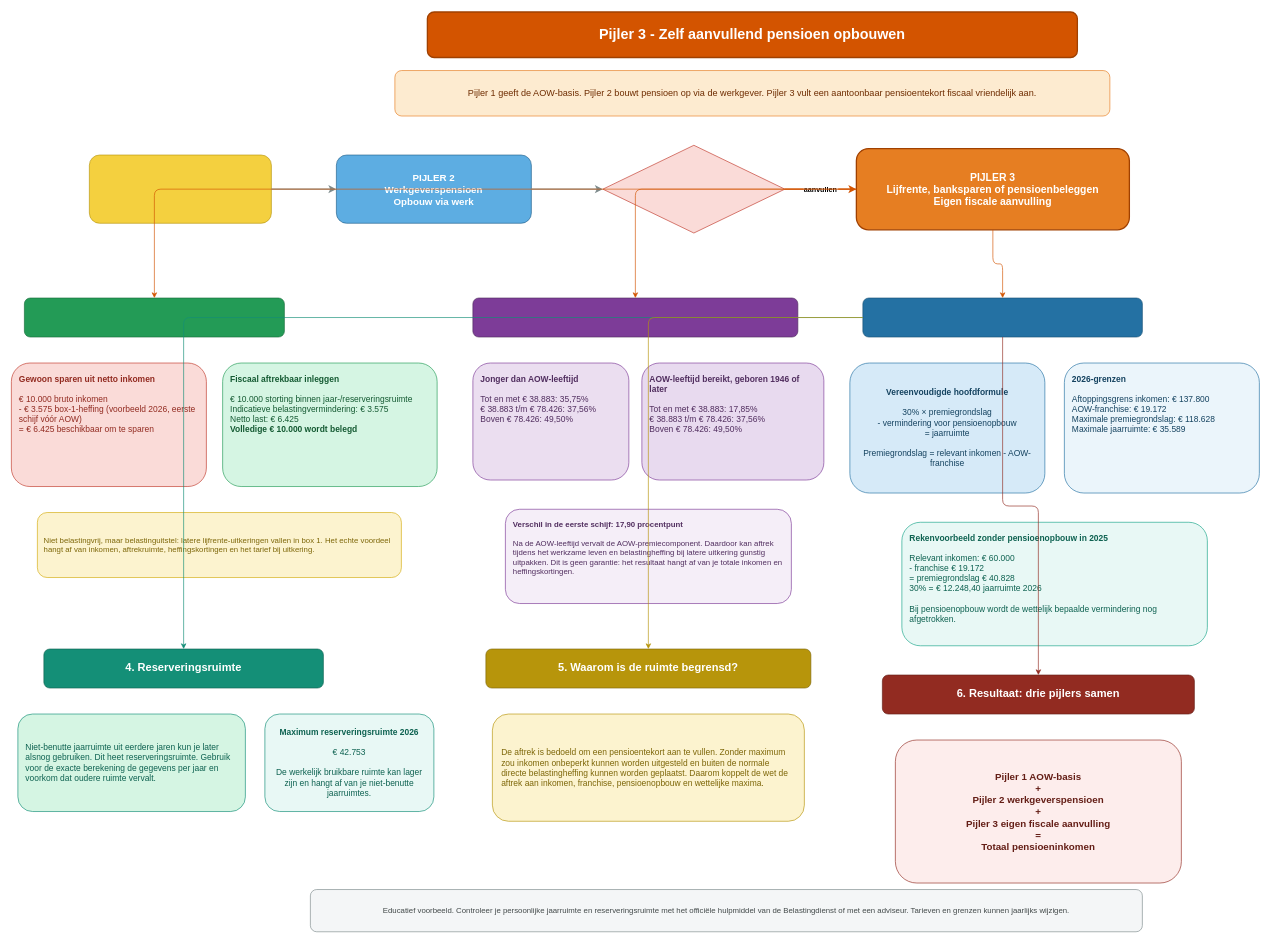
Image size: 1271x943. Some labels were removed from this diagram. Each missing label, with the centre of its shape:
"1. Inleggen met bruto geld" goes at (154,317).
"2. Box 1 vóór en na AOW (2026)" goes at (635,317).
"3. Jaarruimte 2026" goes at (1002,317).
"Pensioentekort? Pijler 1 + 2 zijn niet altijd genoeg" goes at (693,189).
"PIJLER 1 AOW Collectieve basis" goes at (180,188).
